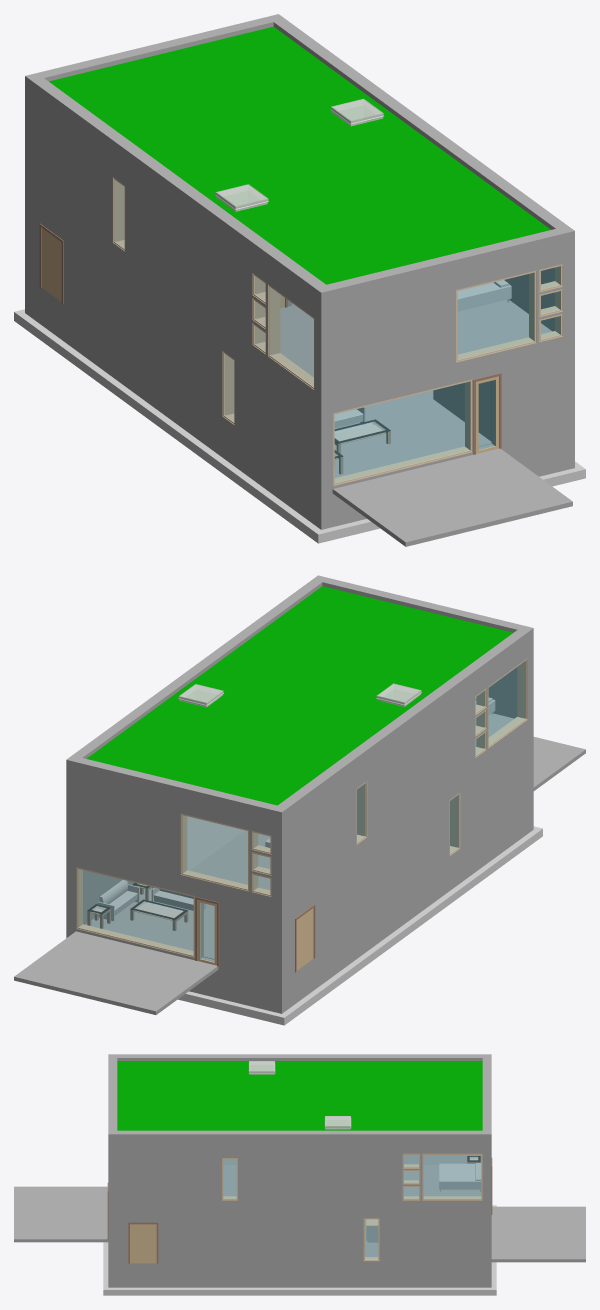
Rendered from duplex.glb.
3 renders of one model, top to bottom at view 1: azimuth 30°, elevation 25°; view 2: azimuth 150°, elevation 25°; view 3: azimuth 270°, elevation 25°, orthographic. The views are drawn at different scales.
Parts seen in each view (by area): view 1: product-ddaca082-9edd-4829-a689-a1a58a1761d2-body, product-9808fd7f-dc48-478e-9217-628e833d7af9-body, product-9808fd7f-dc48-478e-9217-628e833d5659-body, product-9808fd7f-dc48-478e-9217-628e833d5611-body, product-4c8d2570-3244-4e75-8237-a4372a40e878-body, product-9808fd7f-dc48-478e-9217-628e833d7d42-body, product-9808fd7f-dc48-478e-9217-628e833d4385-body, product-6b61ce71-1a7a-473c-8f87-4262e0bdb2de-body, product-2da40d62-4698-436c-a2c3-95c49bb70d41-body, product-982f59b0-f2e1-485f-8ce1-c9f6117b7ef5-body, product-2da40d62-4698-436c-a2c3-95c49bb70ca4-body, product-6b61ce71-1a7a-473c-8f87-4262e0bdcfa0-body (+19 smaller); view 2: product-ddaca082-9edd-4829-a689-a1a58a1761d2-body, product-9808fd7f-dc48-478e-9217-628e833d7af9-body, product-9808fd7f-dc48-478e-9217-628e833d5659-body, product-9808fd7f-dc48-478e-9217-628e833d568d-body, product-4c8d2570-3244-4e75-8237-a4372a40e82b-body, product-9808fd7f-dc48-478e-9217-628e833d7df1-body, product-9808fd7f-dc48-478e-9217-628e833d4385-body, product-6b61ce71-1a7a-473c-8f87-4262e0bdb1c2-body, product-2da40d62-4698-436c-a2c3-95c49bb70d41-body, product-2da40d62-4698-436c-a2c3-95c49bb70c3c-body, product-6b61ce71-1a7a-473c-8f87-4262e0bdc858-body, product-2e3c415a-d885-4964-a589-bb0941bdd177-body (+20 smaller); view 3: product-ddaca082-9edd-4829-a689-a1a58a1761d2-body, product-9808fd7f-dc48-478e-9217-628e833d7d12-body, product-9808fd7f-dc48-478e-9217-628e833d56c9-body, product-9808fd7f-dc48-478e-9217-628e833d4257-body, product-2da40d62-4698-436c-a2c3-95c49bb70cfa-body, product-4c8d2570-3244-4e75-8237-a4372a40e82b-body, product-4c8d2570-3244-4e75-8237-a4372a40e878-body, product-2e3c415a-d885-4964-a589-bb0941bdd167-body, product-6f010293-ddb7-4fe4-8ffd-c144d8444cde-body, product-2da40d62-4698-436c-a2c3-95c49bb70d41-body, product-6b61ce71-1a7a-473c-8f87-4262e0bdb41a-body, product-982f59b0-f2e1-485f-8ce1-c9f6117b7361-body (+10 smaller).
Part boxes in pixels (left/top/right/bottom): product-ddaca082-9edd-4829-a689-a1a58a1761d2-body: left=49, top=26, right=550, bottom=284; product-9808fd7f-dc48-478e-9217-628e833d7af9-body: left=32, top=187, right=314, bottom=486; product-9808fd7f-dc48-478e-9217-628e833d5659-body: left=25, top=94, right=321, bottom=398; product-9808fd7f-dc48-478e-9217-628e833d5611-body: left=321, top=249, right=574, bottom=398; product-4c8d2570-3244-4e75-8237-a4372a40e878-body: left=332, top=448, right=572, bottom=546; product-9808fd7f-dc48-478e-9217-628e833d7d42-body: left=314, top=340, right=562, bottom=491; product-9808fd7f-dc48-478e-9217-628e833d4385-body: left=32, top=281, right=314, bottom=524; product-6b61ce71-1a7a-473c-8f87-4262e0bdb2de-body: left=333, top=379, right=472, bottom=486; product-2da40d62-4698-436c-a2c3-95c49bb70d41-body: left=32, top=78, right=325, bottom=305; product-982f59b0-f2e1-485f-8ce1-c9f6117b7ef5-body: left=334, top=390, right=491, bottom=477; product-2da40d62-4698-436c-a2c3-95c49bb70ca4-body: left=314, top=229, right=562, bottom=310; product-6b61ce71-1a7a-473c-8f87-4262e0bdcfa0-body: left=456, top=270, right=536, bottom=362; product-ddaca082-9edd-4829-a689-a1a58a1761d2-body: left=86, top=586, right=513, bottom=805; product-9808fd7f-dc48-478e-9217-628e833d7af9-body: left=287, top=722, right=527, bottom=977; product-9808fd7f-dc48-478e-9217-628e833d5659-body: left=282, top=644, right=533, bottom=901; product-9808fd7f-dc48-478e-9217-628e833d568d-body: left=66, top=775, right=281, bottom=902; product-4c8d2570-3244-4e75-8237-a4372a40e82b-body: left=14, top=931, right=218, bottom=1014; product-9808fd7f-dc48-478e-9217-628e833d7df1-body: left=66, top=850, right=287, bottom=981; product-9808fd7f-dc48-478e-9217-628e833d4385-body: left=287, top=802, right=527, bottom=1009; product-6b61ce71-1a7a-473c-8f87-4262e0bdb1c2-body: left=76, top=867, right=194, bottom=957; product-2da40d62-4698-436c-a2c3-95c49bb70d41-body: left=278, top=630, right=527, bottom=823; product-2da40d62-4698-436c-a2c3-95c49bb70c3c-body: left=66, top=755, right=287, bottom=827; product-6b61ce71-1a7a-473c-8f87-4262e0bdc858-body: left=180, top=813, right=249, bottom=891; product-2e3c415a-d885-4964-a589-bb0941bdd177-body: left=262, top=836, right=530, bottom=1025; product-ddaca082-9edd-4829-a689-a1a58a1761d2-body: left=117, top=1061, right=482, bottom=1130; product-9808fd7f-dc48-478e-9217-628e833d7d12-body: left=108, top=1202, right=482, bottom=1263; product-9808fd7f-dc48-478e-9217-628e833d56c9-body: left=108, top=1146, right=491, bottom=1202; product-9808fd7f-dc48-478e-9217-628e833d4257-body: left=108, top=1263, right=482, bottom=1287; product-2da40d62-4698-436c-a2c3-95c49bb70cfa-body: left=108, top=1130, right=482, bottom=1146; product-4c8d2570-3244-4e75-8237-a4372a40e82b-body: left=491, top=1206, right=585, bottom=1262; product-4c8d2570-3244-4e75-8237-a4372a40e878-body: left=14, top=1186, right=108, bottom=1242; product-2e3c415a-d885-4964-a589-bb0941bdd167-body: left=103, top=1281, right=496, bottom=1295; product-6f010293-ddb7-4fe4-8ffd-c144d8444cde-body: left=422, top=1153, right=482, bottom=1200; product-2da40d62-4698-436c-a2c3-95c49bb70d41-body: left=117, top=1054, right=482, bottom=1060; product-6b61ce71-1a7a-473c-8f87-4262e0bdb41a-body: left=128, top=1222, right=158, bottom=1263; product-982f59b0-f2e1-485f-8ce1-c9f6117b7361-body: left=404, top=1165, right=481, bottom=1196.
Bounding box in the file's own units: 9.28 × 8.18 × 26.57.
